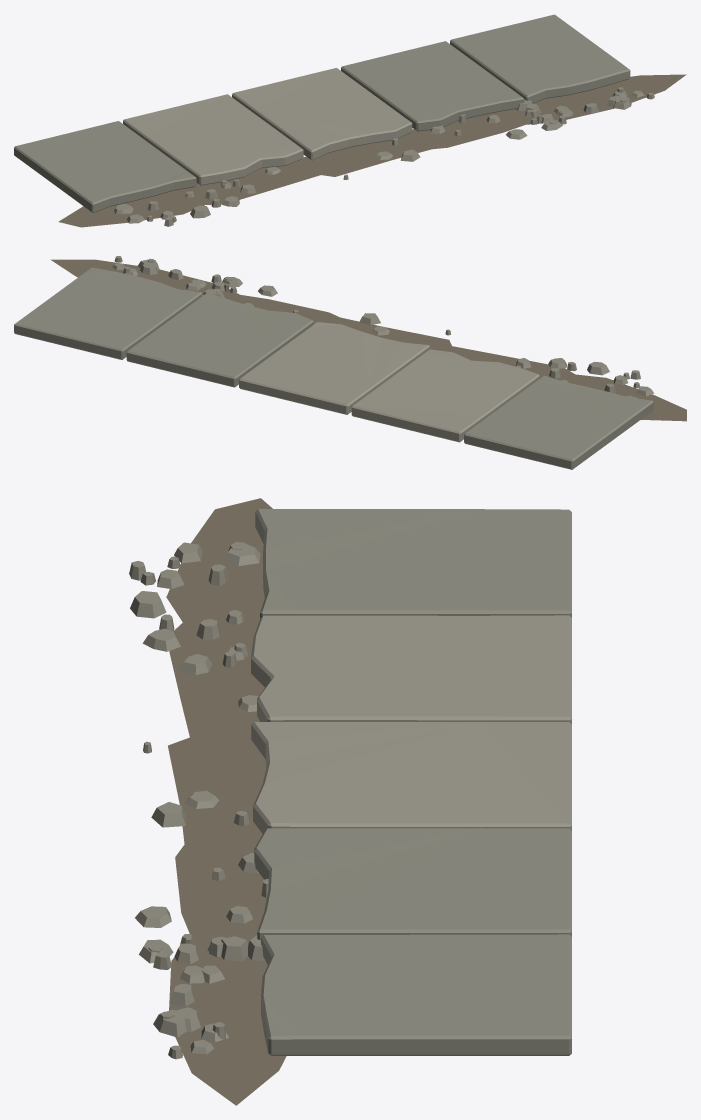
The model's file is BrokenPaving_A.fbx.
The picture shows the model from 3 angles, top to bottom: view 1: azimuth 30°, elevation 25°; view 2: azimuth 150°, elevation 25°; view 3: azimuth 270°, elevation 25°; orthographic projection. The views are drawn at different scales.
Parts seen in each view (by area): view 1: BrokenPaving_A; view 2: BrokenPaving_A; view 3: BrokenPaving_A.
Part boxes in pixels (x1,y1,x2,y2): BrokenPaving_A: (14,14,686,227); BrokenPaving_A: (14,256,686,469); BrokenPaving_A: (129,498,571,1105).
Size of the model in its own units: 411 by 7.1 by 127.
